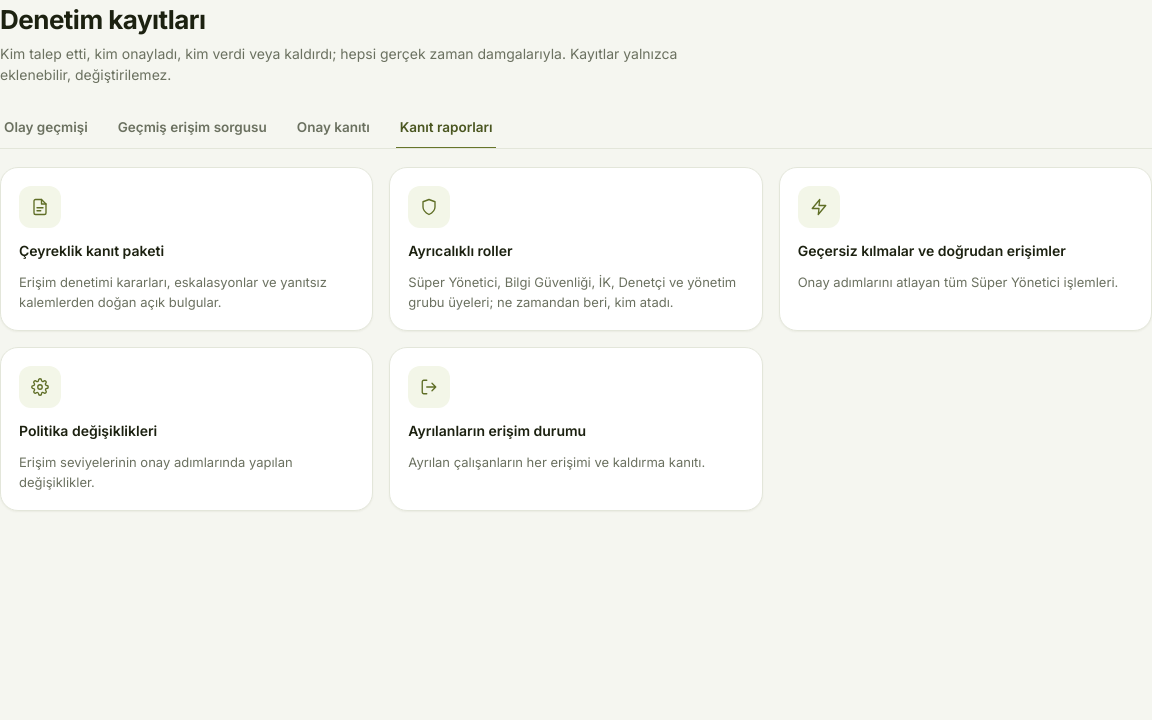
Test: audit explorer › opens the privileged roles report for a date
What coordinates should you click on to do the following:
click the button "Ayrıcalıklı roller"
I would click on:
 (429, 207)
Its box is [389,167,763,331].
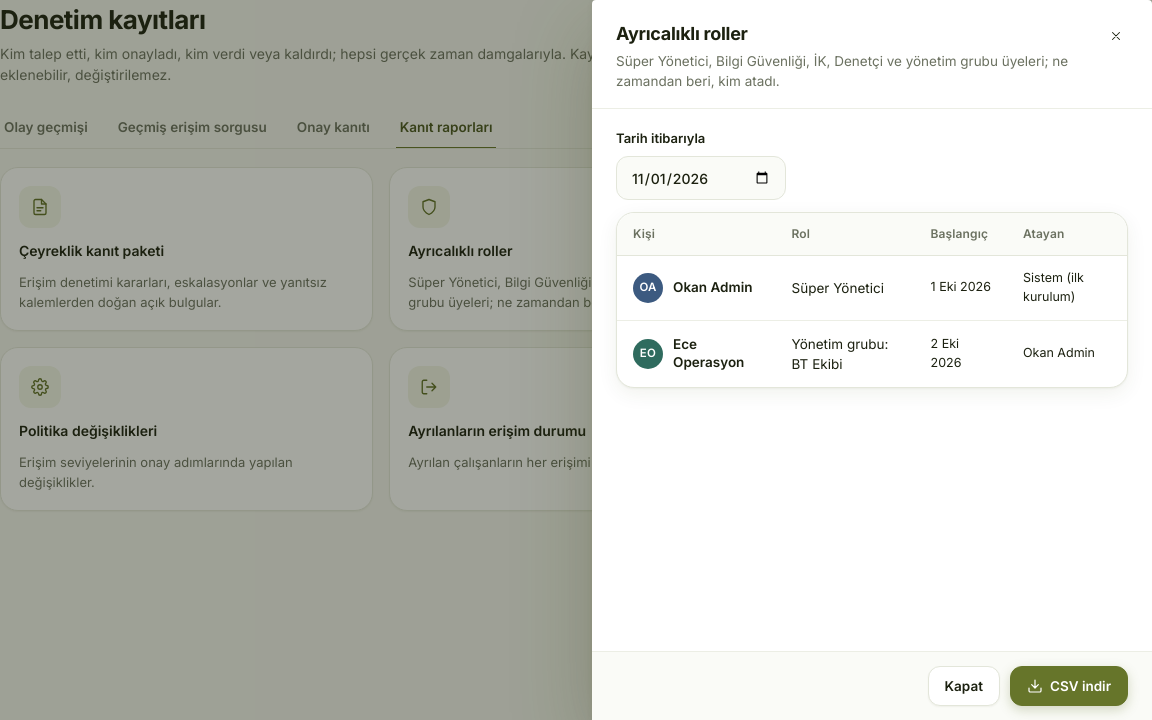
Expected: the text "Süper Yönetici" is shown, [776,256,914,320]
Expected: the text "Sistem (ilk kurulum)" is shown, [1007,256,1127,320]
Expected: the text "Yönetim grubu: BT Ekibi" is shown, [776,320,914,387]
